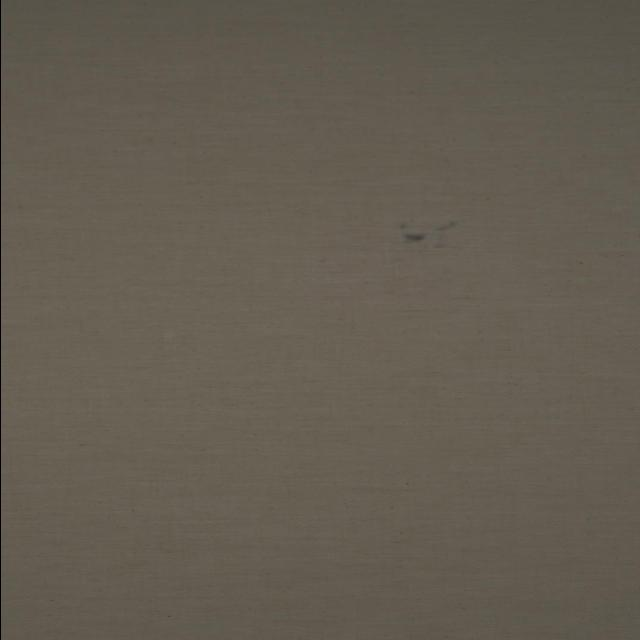dirty: (398, 221, 453, 248)
